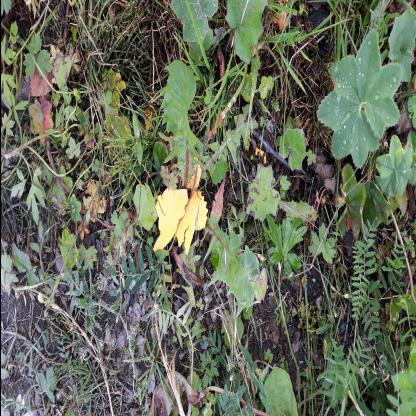plastik: (188, 208, 256, 264)
